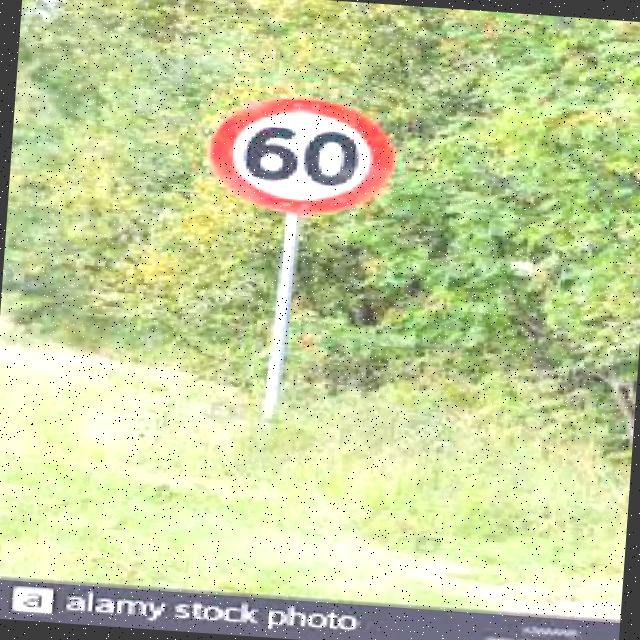Ograniczenie predkosci do 60: (202, 91, 402, 220)
